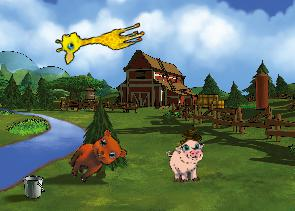bear: (63, 123, 131, 193)
giraffe: (52, 11, 147, 66)
pig: (166, 139, 207, 184)
